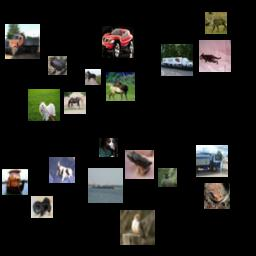automobile: (102, 26, 134, 58)
bird: (120, 210, 155, 245), (158, 168, 177, 187)
cat: (199, 40, 231, 72), (99, 138, 118, 157)
deer: (106, 72, 135, 101), (205, 12, 227, 34)
dog: (28, 89, 60, 121), (49, 157, 75, 183), (31, 196, 53, 218)
frog: (125, 150, 154, 179), (204, 183, 230, 209), (48, 56, 67, 75)
ship: (88, 168, 123, 203), (2, 169, 28, 195)
truck: (5, 24, 40, 59), (196, 145, 228, 177), (161, 44, 193, 76)
